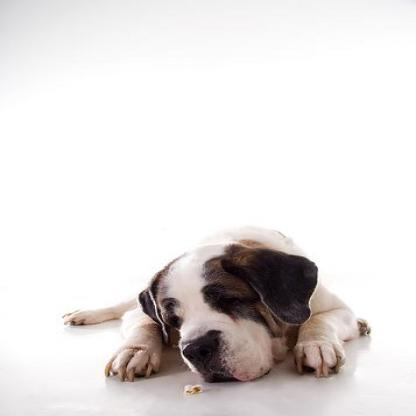Saint_Bernard: (53, 227, 370, 395)
